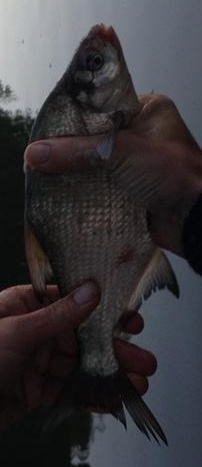Blicca bjoerkna: (20, 20, 182, 447)
